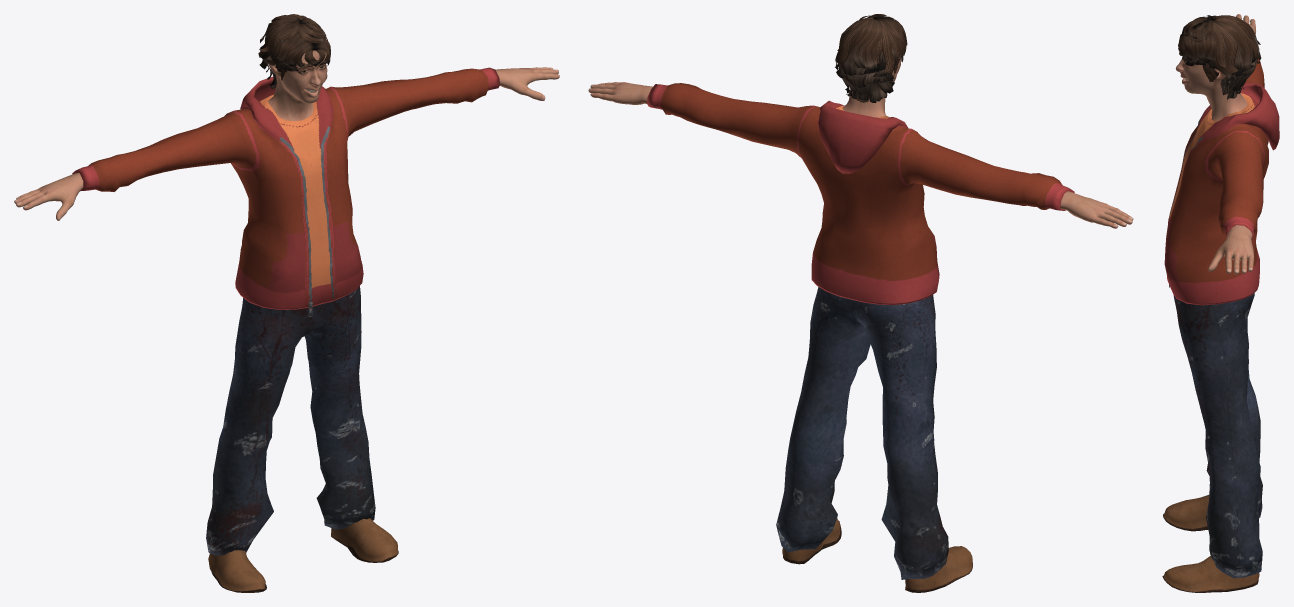
File: goofy.obj
3 renders of one model, left to right at view 1: azimuth 30°, elevation 25°; view 2: azimuth 150°, elevation 25°; view 3: azimuth 270°, elevation 25°, orthographic.
Parts seen in each view (by area): view 1: Tops, Bottoms, BodyParts, Shoes, Hair; view 2: Tops, Bottoms, Hair, BodyParts, Shoes; view 3: Tops, Bottoms, Hair, BodyParts, Shoes.
Part boxes in pixels (box(x1,y1,x2,y2)): Tops: box(72, 67, 499, 316); Bottoms: box(206, 286, 375, 555); BodyParts: box(14, 50, 559, 220); Shoes: box(208, 489, 398, 592); Hair: box(258, 14, 330, 89); Tops: box(647, 83, 1074, 305); Bottoms: box(776, 287, 948, 579); Hair: box(835, 14, 907, 102); BodyParts: box(588, 59, 1133, 228); Shoes: box(782, 509, 972, 592); Tops: box(1164, 58, 1279, 305); Bottoms: box(1173, 293, 1262, 578); Hair: box(1178, 15, 1261, 99); BodyParts: box(1175, 14, 1255, 274); Shoes: box(1162, 495, 1259, 592).
Bounding box in the file's own units: 187 × 180 × 35.54.
Materials: 5 (5 with a texture image).
